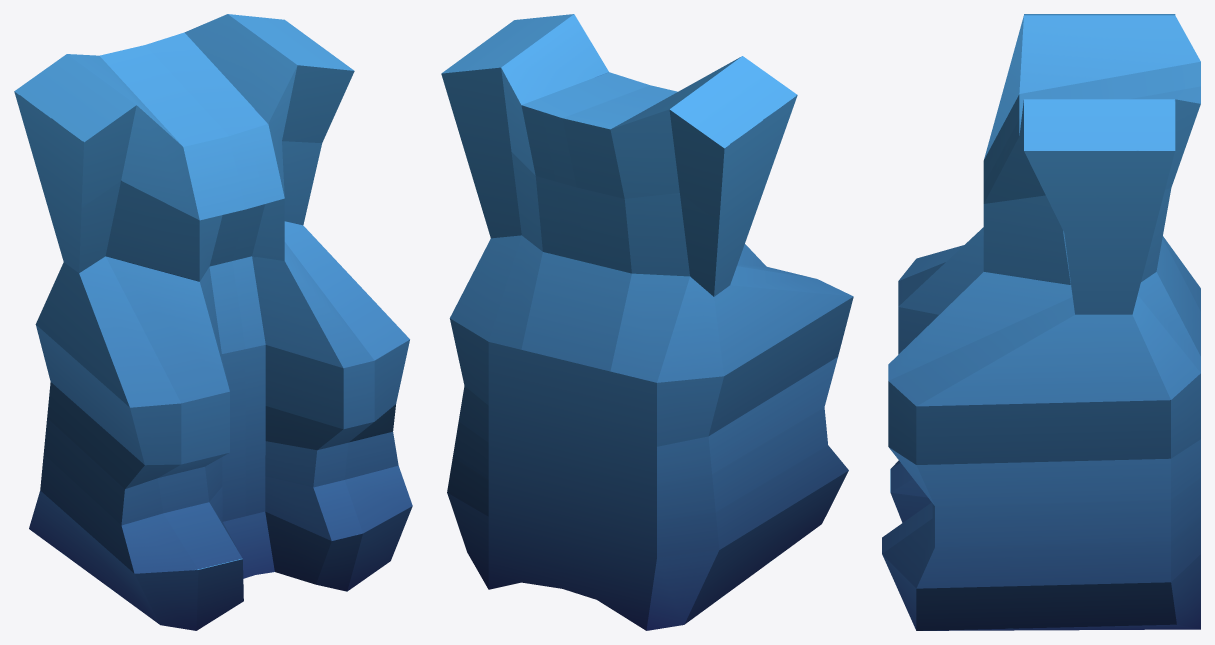
Rendered from Gummy Bear.glb.
The picture shows the model from 3 angles, left to right: view 1: azimuth 30°, elevation 25°; view 2: azimuth 150°, elevation 25°; view 3: azimuth 270°, elevation 25°; orthographic projection. The views are drawn at different scales.
Visible parts, largest first — view 1: Cube; view 2: Cube; view 3: Cube.
Part boxes in pixels (x1=…): Cube: x1=14, y1=14, x2=412, y2=630; Cube: x1=441, y1=14, x2=853, y2=630; Cube: x1=882, y1=14, x2=1200, y2=630.
Size of the model in its own units: 1.33 by 2.22 by 1.2.
1 material, 1 textured.
